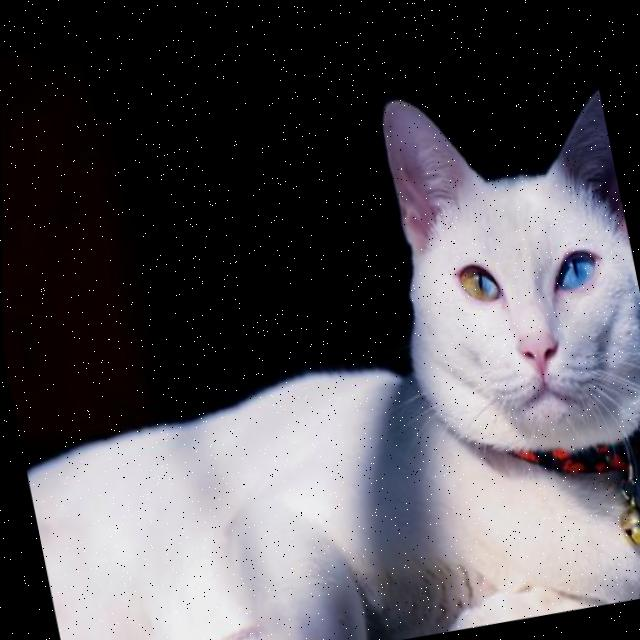Khao Manee: (0, 45, 640, 640)
